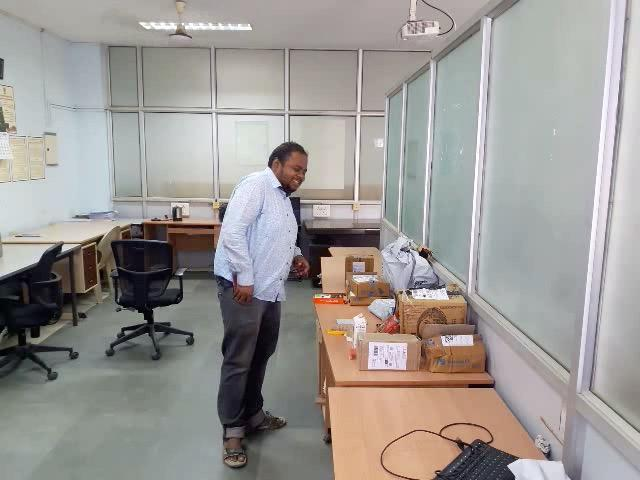shoplifting: (182, 219, 313, 397)
